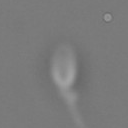abnormal: (53, 88, 96, 128)
